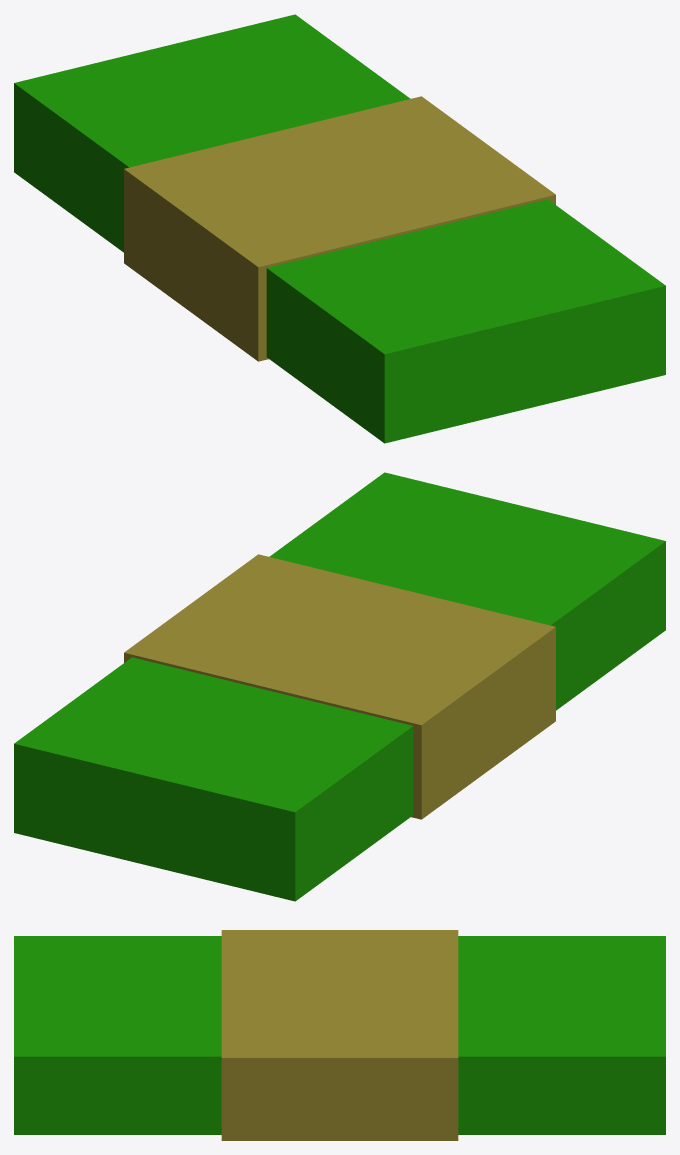
Rendered from MoneyStacks.fbx.
The picture shows the model from 3 angles, top to bottom: view 1: azimuth 30°, elevation 25°; view 2: azimuth 150°, elevation 25°; view 3: azimuth 270°, elevation 25°; orthographic projection. The views are drawn at different scales.
Visible parts, largest first — view 1: MoneyStacks; view 2: MoneyStacks; view 3: MoneyStacks.
Part boxes in pixels (bbox=[...]): MoneyStacks: bbox=[14, 14, 665, 443]; MoneyStacks: bbox=[14, 472, 665, 901]; MoneyStacks: bbox=[14, 930, 665, 1140].
Size of the model in its own units: 3.69 by 1.12 by 7.95.
